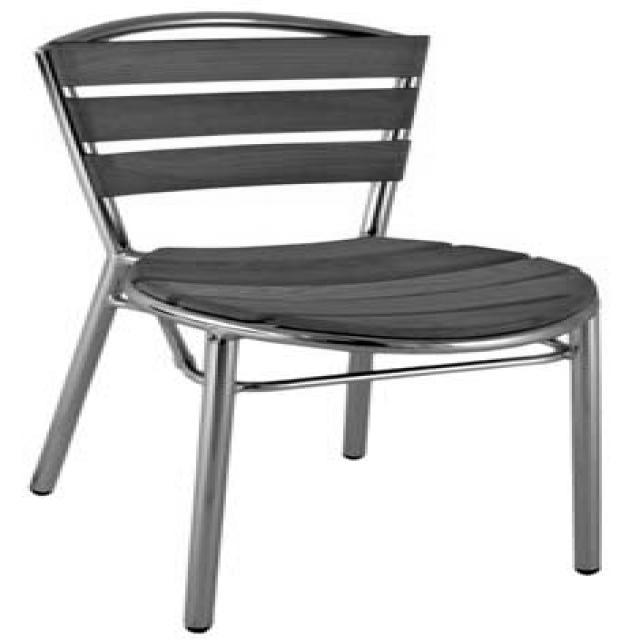chair: (7, 11, 601, 632)
